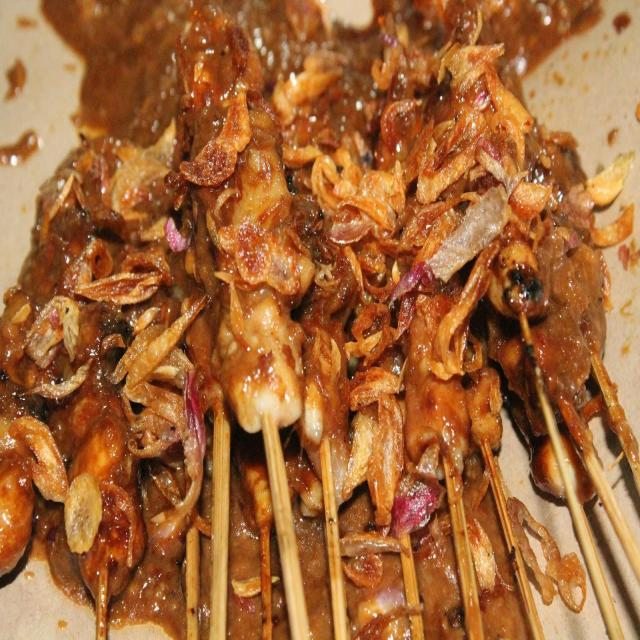Sate: (1, 3, 640, 639)
